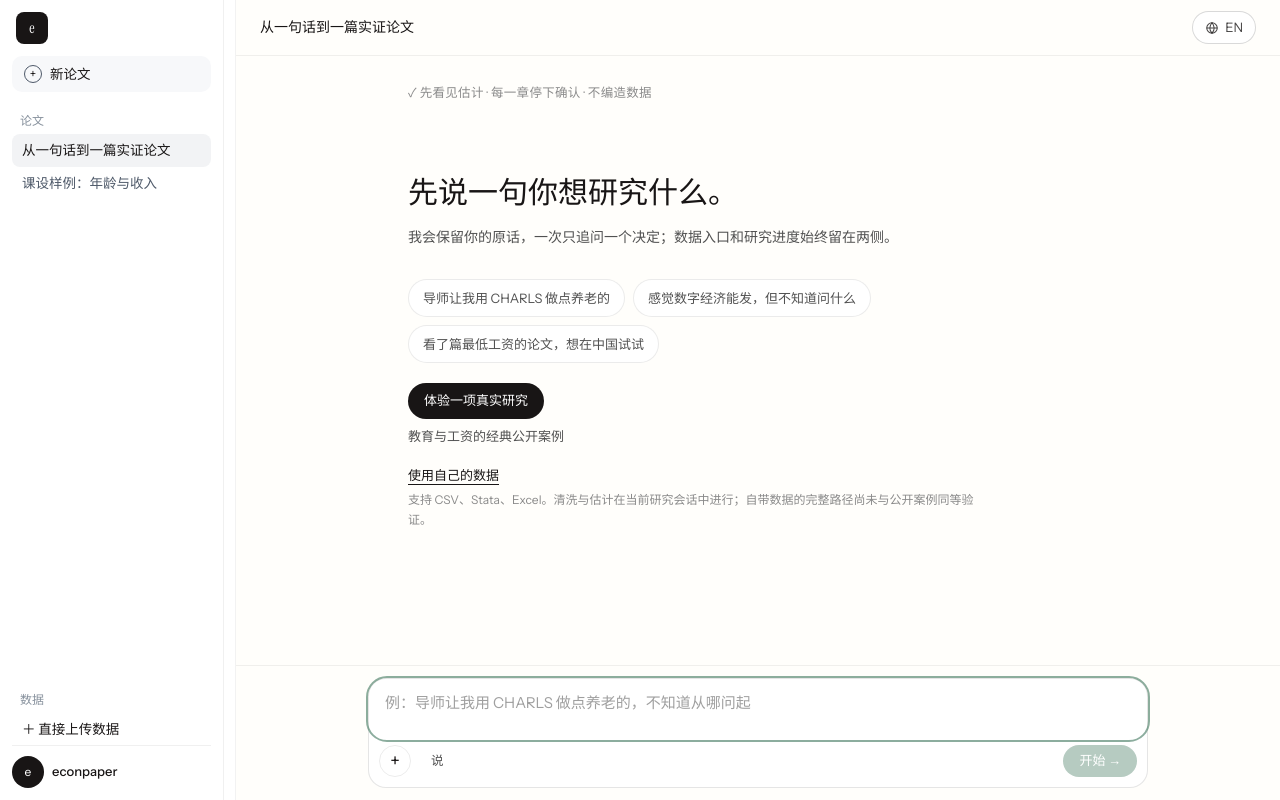
Test: DeskPage › C3 desk-paper 可输入后出现 desk-thread
Step 1. Type "想看教育对工资的影响" into the text box with test id "desk-paper" → [758, 709], box [369, 679, 1147, 739]
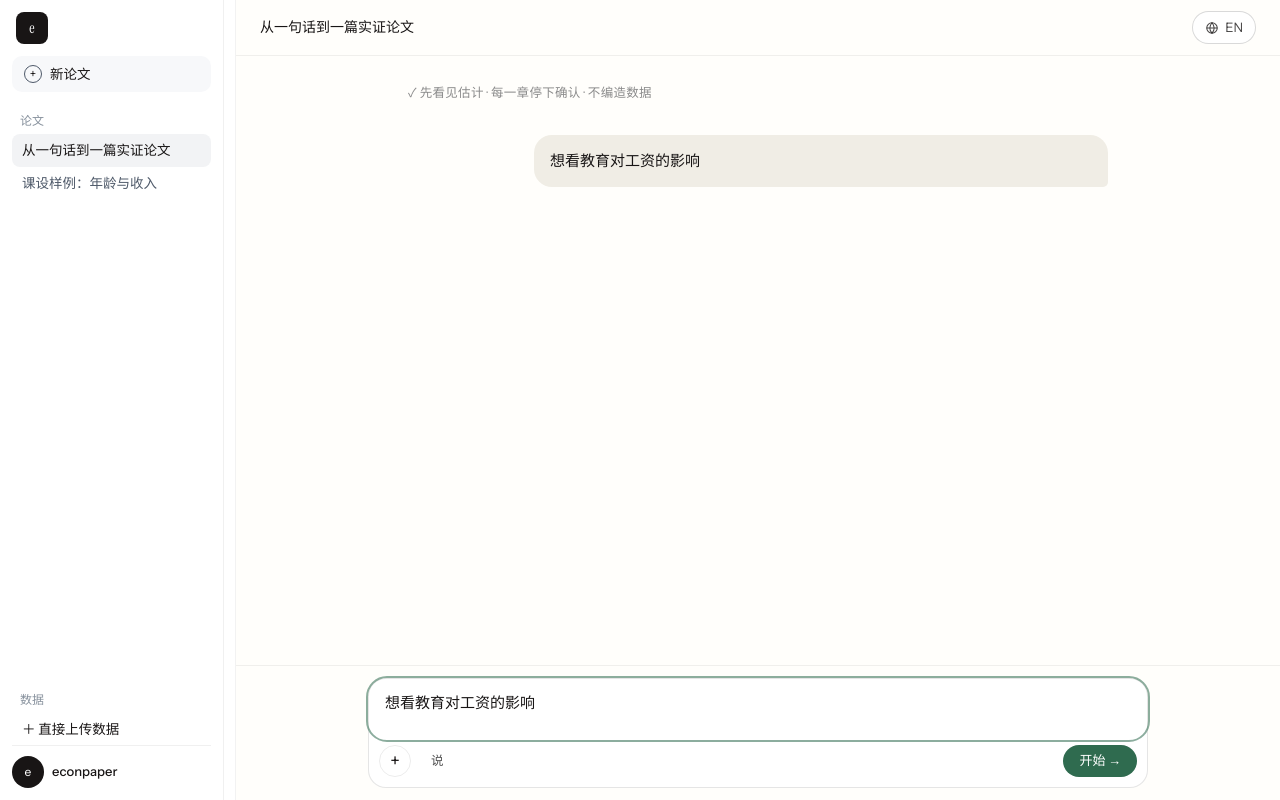
Now the element with test id "desk-thread" is shown, box [534, 135, 1108, 187]
Now the element with test id "desk-thread" reads "想看教育对工资的影响", box [550, 151, 700, 170]
